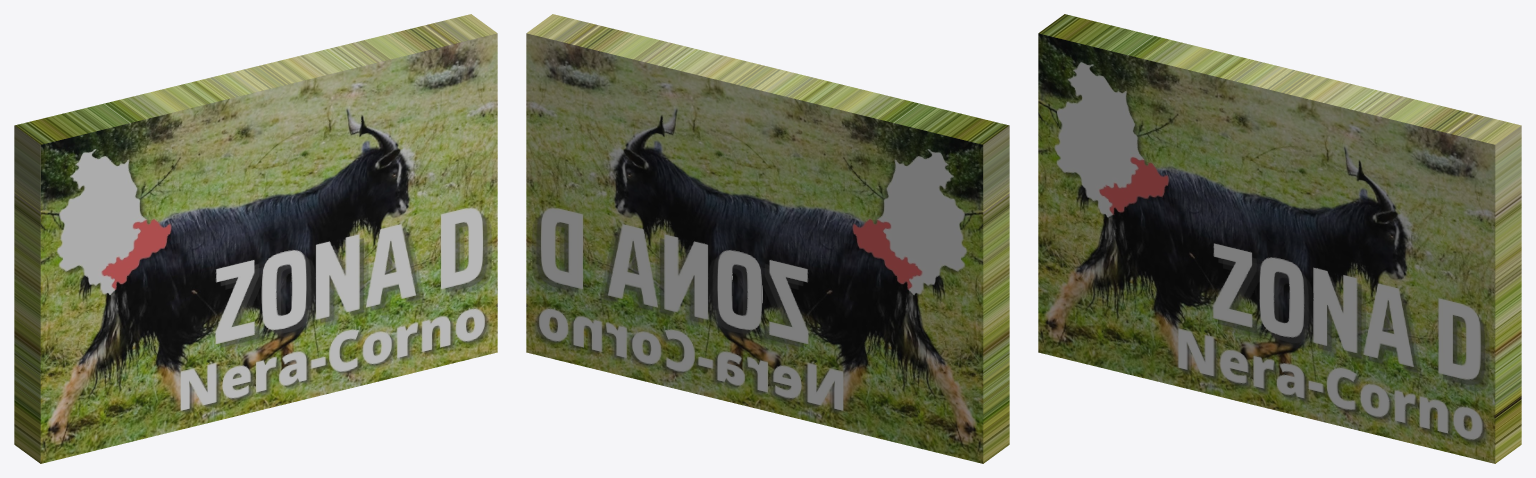
File: Zona D.glb
3 views of the same model, side by side, from view 1: azimuth 30°, elevation 25°; view 2: azimuth 150°, elevation 25°; view 3: azimuth 330°, elevation 25° (orthographic).
Bounding box in the file's own units: 0.2245 × 0.1499 × 0.0225.
Materials: 1 (1 with a texture image).
